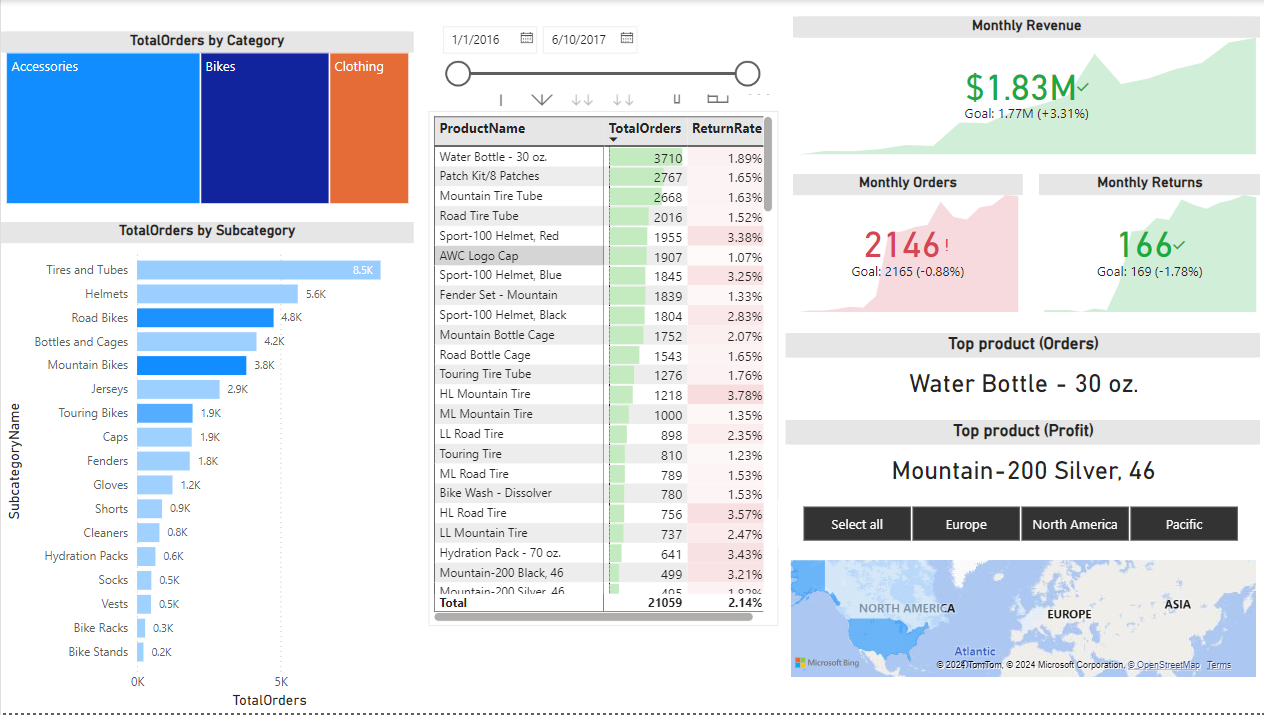

What the dashboard file says about the page in this screenshot:
{"tool":"powerbi","page":{"name":"Executive Summary","canvas":[1280,720],"ordinal":0},"visuals":[{"type":"barChart","title":"TotalOrders by Subcategory","fields":{"Y":["AW_Sales.TotalOrders"],"Category":["AW_Product_Subcategory_Lookup.SubcategoryName"]},"box":[0,224.1,416.4,495.1],"z":0},{"type":"treemap","title":"TotalOrders by Category","fields":{"Group":["AW_Product_Category_Lookup.CategoryName","AW_Product_Subcategory_Lookup.SubcategoryName"],"Values":["AW_Sales.TotalOrders"]},"box":[0,31.8,416.4,178.7],"z":1000},{"type":"pivotTable","fields":{"Values":["AW_Sales.TotalOrders","AW_Returns.ReturnRate"],"Rows":["AW_Product_Category_Lookup.CategoryName","AW_Product_Subcategory_Lookup.SubcategoryName","AW_Product_Lookup.ProductName"]},"box":[432,112,352,520],"z":2000},{"type":"slicer","fields":{"Values":["AW_Calendar_Lookup.Date"]},"box":[433.1,16.7,352.8,78.7],"z":3000},{"type":"kpi","title":"Monthly Revenue","fields":{"Indicator":["AW_Sales.TotalRevenue"],"TrendLine":["AW_Calendar_Lookup.Start of Month"],"Goal":["AW_Sales.PrevMonthRevenue"]},"box":[800,16,472,144],"z":4000},{"type":"kpi","title":"Monthly Orders","fields":{"TrendLine":["AW_Calendar_Lookup.Start of Month"],"Goal":["AW_Sales.PrevMonthOrders"],"Indicator":["AW_Sales.TotalOrders"]},"box":[800,176,232,144],"z":5000},{"type":"kpi","title":"Monthly Returns","fields":{"TrendLine":["AW_Calendar_Lookup.Start of Month"],"Goal":["AW_Returns.PrevMonthReturns"],"Indicator":["AW_Returns.TotalReturns"]},"box":[1048,176,224,144],"z":6000},{"type":"card","title":"Top product (Orders)","fields":{"Values":["Min(AW_Product_Lookup.ProductName)"]},"box":[792,336,480,80],"z":7000},{"type":"card","title":"Top product (Profit)","fields":{"Values":["Min(AW_Product_Lookup.ProductName)"]},"box":[792,424,480,80],"z":8000},{"type":"filledMap","fields":{"Category":["AW_Territories_Lookup.Country"]},"box":[792,560,480,128],"z":9000},{"type":"slicer","fields":{"Values":["AW_Territories_Lookup.Continent"]},"box":[784,504,488,48],"z":10000}]}

Visuals, with their boxes in screenshot pixels (x1, y1, x2, y2), scaled from the page's 1280x720 canvas onto the 1264x715 screenshot:
"TotalOrders by Subcategory" barChart: (x1=0, y1=223, x2=411, y2=714)
"TotalOrders by Category" treemap: (x1=0, y1=32, x2=411, y2=209)
pivotTable - AW_Sales.TotalOrders x AW_Returns.ReturnRate: (x1=427, y1=111, x2=774, y2=628)
slicer - AW_Calendar_Lookup.Date: (x1=428, y1=17, x2=776, y2=95)
"Monthly Revenue" kpi: (x1=790, y1=16, x2=1256, y2=159)
"Monthly Orders" kpi: (x1=790, y1=175, x2=1019, y2=318)
"Monthly Returns" kpi: (x1=1035, y1=175, x2=1256, y2=318)
"Top product (Orders)" card: (x1=782, y1=334, x2=1256, y2=413)
"Top product (Profit)" card: (x1=782, y1=421, x2=1256, y2=500)
filledMap - AW_Territories_Lookup.Country: (x1=782, y1=556, x2=1256, y2=683)
slicer - AW_Territories_Lookup.Continent: (x1=774, y1=500, x2=1256, y2=548)
